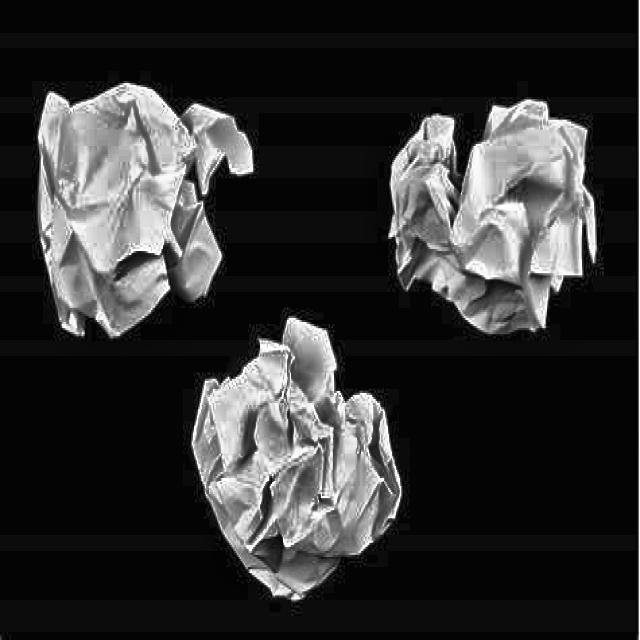Paper: (30, 69, 256, 351), (197, 308, 407, 606), (382, 95, 601, 341)
